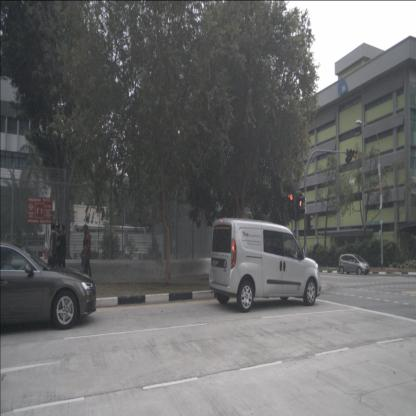human-pedestrian-adult: (51, 224, 68, 287), (46, 222, 59, 288), (79, 224, 92, 287), (80, 224, 90, 281), (53, 223, 62, 286)
vehicle-car: (208, 217, 322, 313), (0, 242, 97, 330), (338, 254, 370, 276)
vehicle-truck: (2, 232, 46, 262)
